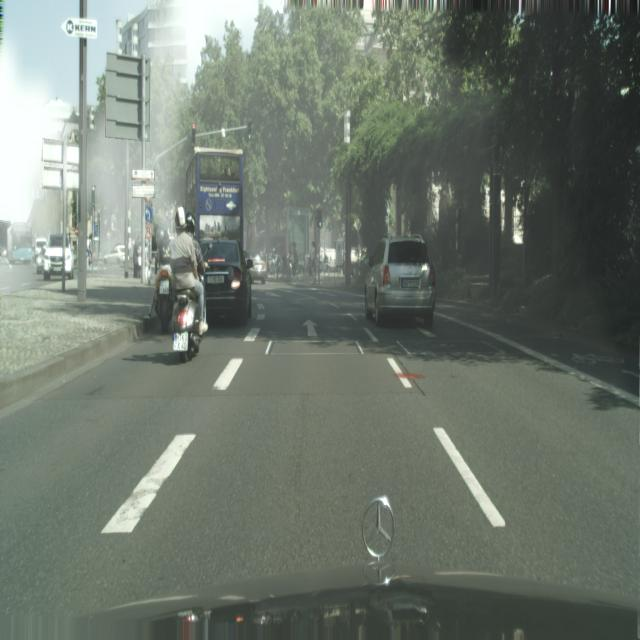bus: (168, 205, 203, 362)
motorcycle: (184, 148, 245, 251)
person: (292, 243, 299, 279)
rider: (42, 232, 73, 281), (7, 221, 34, 264)
truck: (364, 233, 436, 329), (200, 239, 252, 326), (43, 232, 73, 281), (244, 252, 267, 284), (104, 244, 126, 267)
